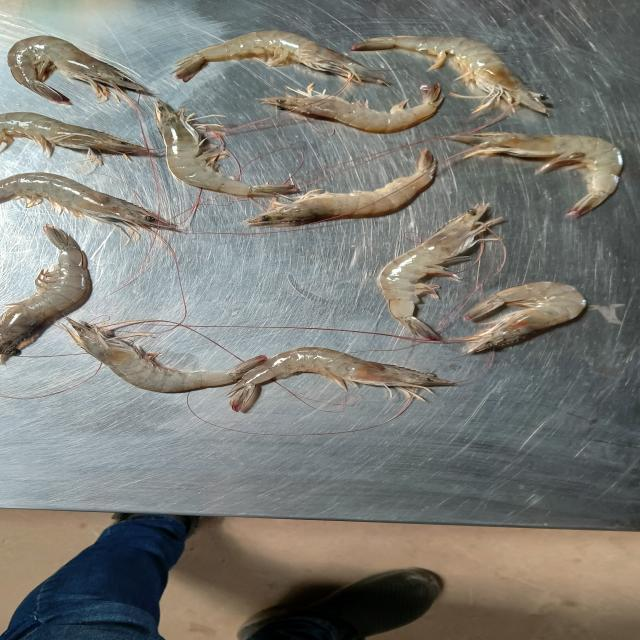shrimp: (376, 204, 502, 340), (350, 35, 547, 114), (66, 319, 268, 392), (246, 149, 436, 226), (449, 132, 622, 216), (228, 348, 454, 412), (155, 100, 299, 198), (0, 172, 177, 244), (0, 225, 91, 364), (173, 30, 387, 85), (7, 36, 153, 105), (261, 84, 445, 134), (463, 281, 587, 352), (0, 112, 146, 164)
